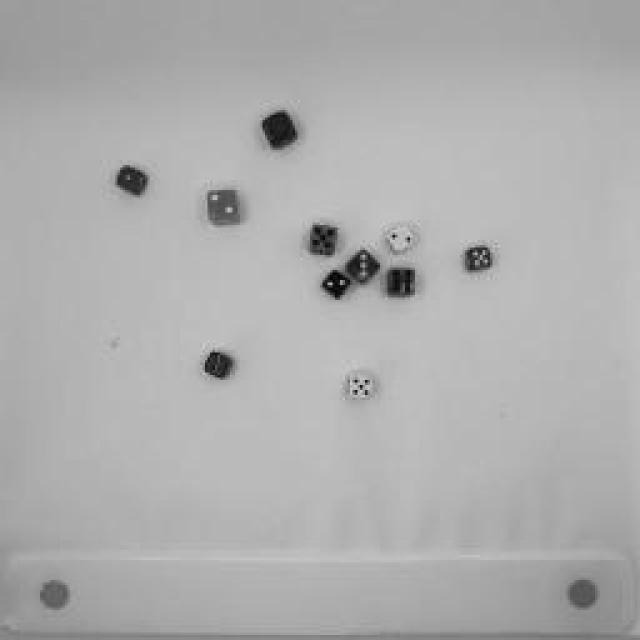dice_1: (259, 111, 301, 151), (114, 162, 151, 200)
dice_2: (204, 189, 246, 229), (384, 223, 421, 255), (320, 269, 352, 306)
dice_3: (344, 250, 381, 285)
dice_5: (305, 224, 340, 261), (462, 245, 498, 275), (345, 372, 375, 402)
dice_6: (202, 351, 240, 381), (385, 266, 417, 299)
